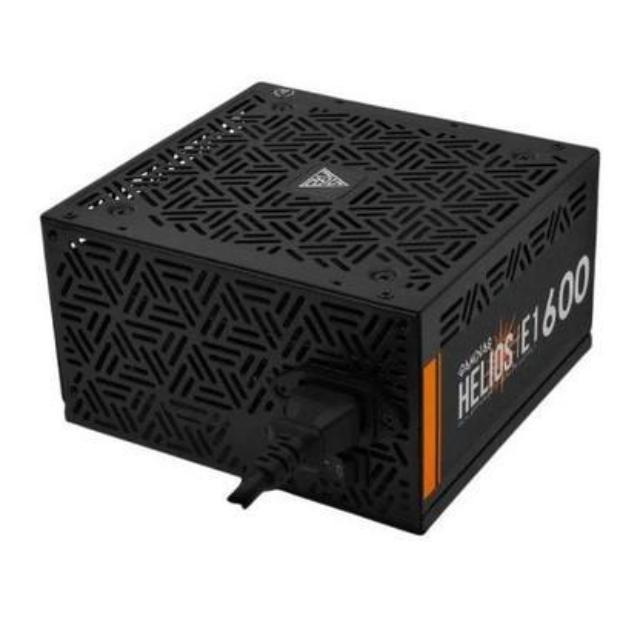PSU: (29, 71, 614, 546)
